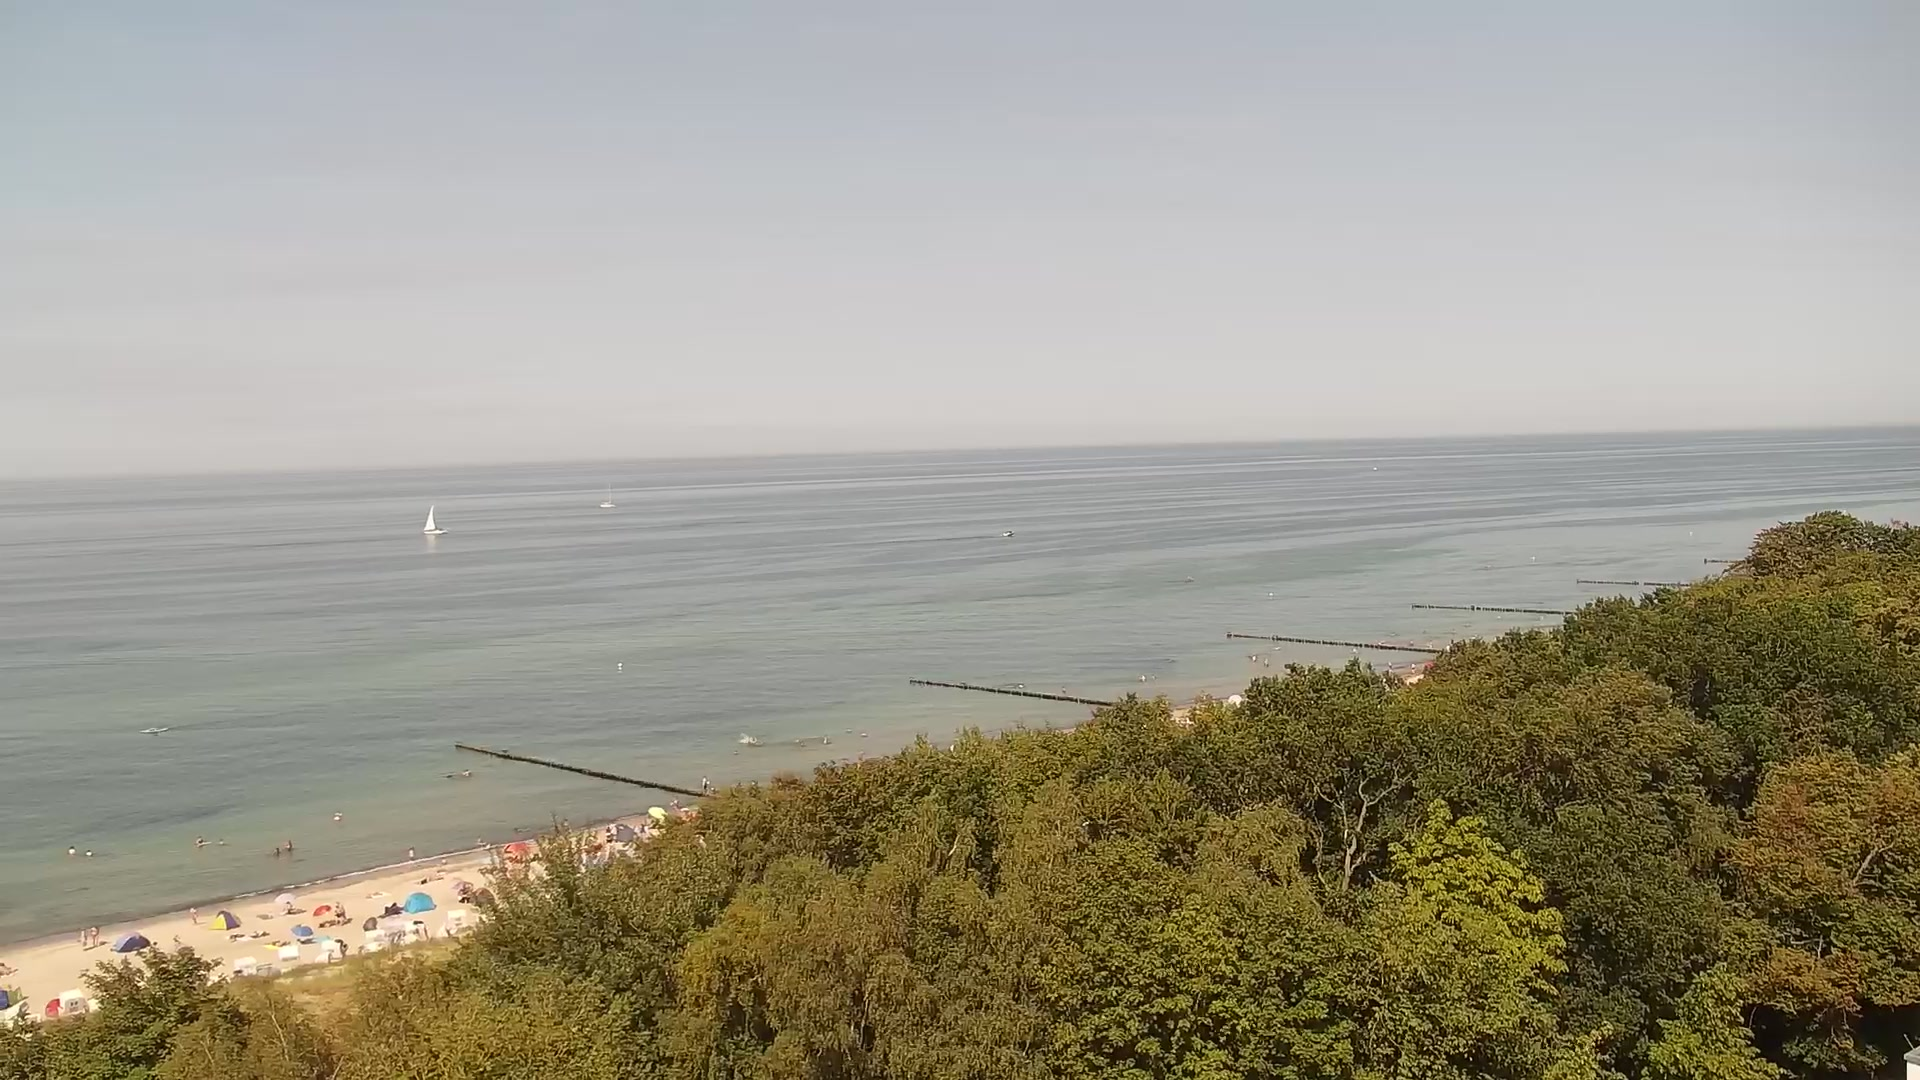human: (90, 923, 100, 947), (78, 927, 89, 949), (189, 905, 201, 924), (281, 900, 296, 915), (335, 900, 346, 920), (701, 774, 710, 795), (195, 835, 207, 848), (333, 904, 342, 923), (282, 839, 293, 851), (332, 810, 343, 822), (407, 846, 416, 860), (462, 768, 472, 777), (271, 848, 282, 856), (84, 849, 95, 857), (67, 846, 78, 854), (1410, 663, 1417, 674), (1061, 685, 1067, 695), (1387, 660, 1393, 670), (1408, 641, 1414, 647)
sea: (422, 502, 448, 536), (599, 483, 617, 508), (139, 726, 169, 735), (1002, 530, 1015, 538)
